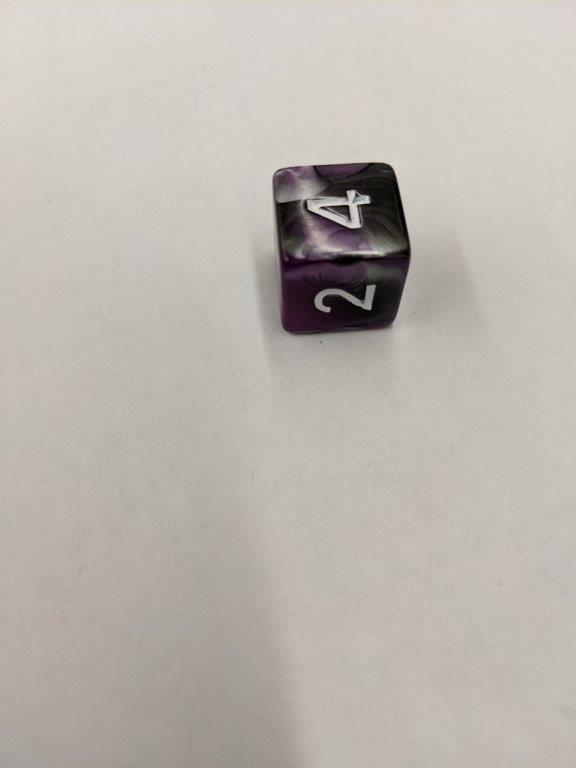d6-4: (272, 161, 411, 332)
